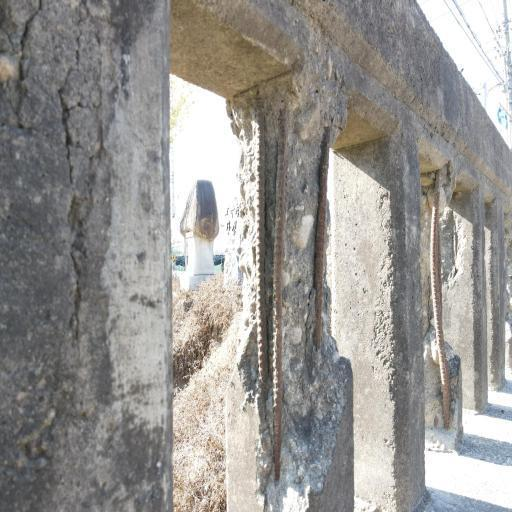exposed_rebar: (430, 169, 451, 430), (273, 108, 287, 480), (314, 128, 330, 348), (255, 119, 268, 388)
spalling: (229, 65, 346, 512)
